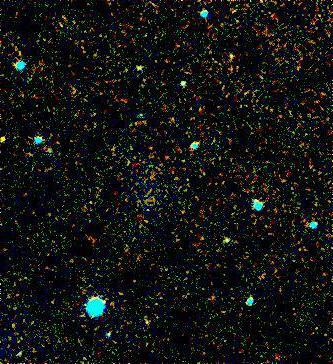star: (0, 116, 20, 146)
